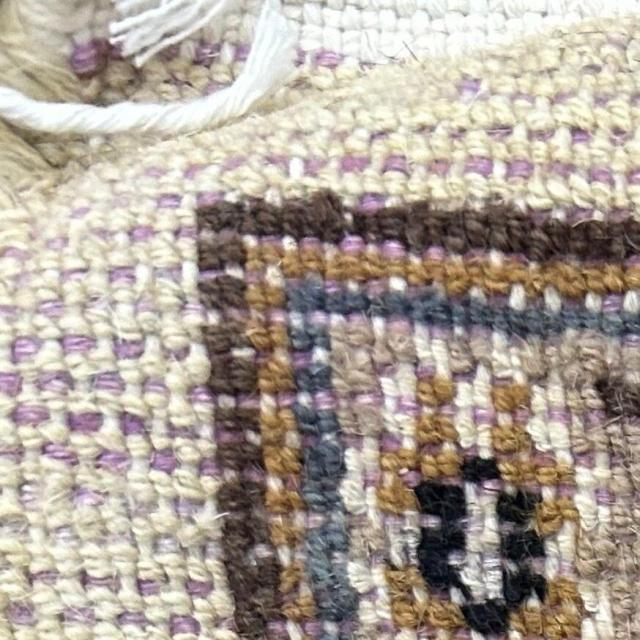Knot: (492, 370, 531, 422), (296, 348, 334, 394), (340, 127, 372, 179), (466, 602, 506, 640), (308, 438, 344, 480), (416, 358, 444, 410), (518, 336, 548, 384), (450, 335, 477, 384), (294, 104, 336, 134), (534, 451, 559, 501), (506, 142, 534, 186), (390, 533, 422, 571), (548, 420, 573, 468), (543, 608, 580, 639), (422, 602, 460, 632), (561, 268, 586, 313), (72, 46, 106, 79), (258, 360, 292, 393), (278, 562, 310, 596), (267, 308, 290, 352), (186, 562, 214, 598), (104, 62, 139, 90), (520, 598, 544, 638), (306, 310, 330, 350), (288, 282, 320, 312), (76, 508, 106, 540), (348, 560, 376, 594), (84, 562, 118, 590), (300, 238, 325, 276), (361, 174, 386, 212), (44, 214, 70, 250), (444, 256, 468, 295), (576, 494, 600, 533), (0, 90, 26, 126), (0, 538, 31, 568), (0, 159, 33, 187), (184, 352, 211, 386), (42, 444, 80, 468), (315, 400, 340, 436), (143, 380, 170, 413), (392, 595, 419, 628), (189, 386, 217, 417), (36, 372, 72, 396), (347, 313, 372, 347), (294, 395, 318, 430), (612, 467, 640, 497), (174, 473, 205, 500), (492, 330, 514, 368), (537, 505, 562, 538), (58, 172, 85, 202), (170, 614, 201, 640), (241, 462, 266, 494), (0, 487, 24, 520), (126, 20, 148, 56), (12, 336, 40, 364), (464, 152, 492, 180), (528, 112, 554, 142), (490, 98, 514, 130), (248, 329, 272, 361), (547, 221, 570, 254), (16, 406, 50, 428), (550, 126, 572, 160), (466, 14, 488, 48), (324, 282, 346, 316), (222, 246, 244, 280), (572, 174, 594, 208), (340, 174, 363, 206), (382, 154, 410, 180), (547, 178, 573, 206), (88, 300, 114, 328), (300, 25, 322, 58), (73, 486, 106, 508), (282, 242, 302, 278), (222, 156, 246, 186), (492, 140, 510, 180), (134, 81, 168, 102), (486, 252, 507, 286), (507, 220, 528, 254), (0, 573, 31, 596), (594, 19, 626, 41), (580, 334, 607, 360), (115, 336, 144, 360), (456, 416, 477, 449), (199, 460, 222, 490), (446, 27, 466, 61), (96, 454, 130, 474), (408, 167, 428, 201), (302, 620, 336, 640), (70, 411, 102, 432), (154, 534, 182, 558), (84, 270, 108, 298), (188, 65, 212, 93), (586, 222, 610, 250), (444, 225, 466, 255), (466, 220, 488, 250), (346, 284, 368, 314), (431, 124, 453, 154), (408, 133, 430, 163), (528, 418, 550, 448), (617, 542, 639, 572), (476, 408, 496, 441), (150, 512, 180, 534), (150, 472, 176, 497), (8, 602, 35, 626), (384, 178, 408, 205), (448, 166, 467, 200), (542, 284, 562, 316), (64, 336, 96, 356), (92, 374, 124, 394), (610, 192, 630, 224), (22, 176, 54, 196), (222, 17, 244, 46), (569, 223, 590, 253), (621, 371, 640, 404), (155, 263, 180, 288), (151, 450, 177, 474), (42, 422, 68, 446), (60, 582, 84, 608), (164, 334, 188, 360), (602, 41, 628, 65), (20, 482, 44, 508), (194, 42, 220, 66), (554, 74, 578, 100), (264, 154, 288, 180), (562, 363, 582, 394), (366, 244, 386, 275), (528, 233, 550, 261), (488, 12, 506, 46), (560, 330, 579, 362), (590, 165, 614, 190), (38, 341, 62, 366), (342, 30, 362, 60), (29, 287, 54, 311), (466, 175, 490, 200), (118, 610, 148, 630), (168, 395, 192, 420), (430, 150, 450, 180), (556, 104, 579, 130), (380, 218, 406, 241), (264, 266, 286, 293), (62, 300, 84, 327), (199, 242, 220, 270), (388, 276, 408, 305), (406, 222, 426, 251), (63, 280, 87, 304), (360, 30, 378, 62), (154, 242, 178, 266), (594, 539, 618, 563), (582, 360, 606, 384), (460, 76, 482, 102), (116, 304, 138, 330), (366, 279, 388, 305), (413, 34, 435, 60), (88, 136, 114, 158), (381, 428, 403, 454), (142, 156, 168, 178), (525, 281, 544, 311), (245, 259, 266, 286), (378, 32, 398, 60), (304, 152, 324, 180), (314, 50, 342, 70), (52, 526, 80, 546), (107, 542, 138, 560), (342, 234, 365, 258), (138, 311, 162, 334), (505, 17, 524, 46), (19, 427, 44, 449), (604, 268, 625, 294), (94, 601, 120, 622), (64, 608, 96, 625), (412, 8, 430, 38), (109, 268, 136, 288), (592, 142, 612, 169), (290, 313, 308, 343), (123, 413, 146, 436), (176, 444, 200, 466), (260, 242, 282, 266), (236, 394, 260, 416), (265, 619, 290, 640), (178, 240, 198, 266), (466, 259, 486, 285), (490, 226, 510, 252), (568, 206, 594, 226), (96, 334, 116, 360), (108, 248, 134, 268), (142, 336, 162, 362), (42, 314, 62, 340), (30, 556, 57, 575), (162, 590, 192, 607), (242, 208, 259, 238), (0, 374, 22, 397), (128, 460, 150, 483), (0, 418, 18, 446), (508, 283, 526, 311), (182, 304, 206, 325), (26, 195, 50, 216), (398, 32, 416, 60), (6, 304, 34, 322), (0, 519, 28, 537), (303, 3, 323, 28), (58, 559, 84, 578), (623, 290, 640, 319), (0, 228, 29, 245), (602, 292, 624, 314), (122, 394, 144, 416), (158, 294, 180, 316), (169, 58, 191, 80), (488, 286, 509, 309), (127, 436, 150, 457), (342, 6, 362, 30), (382, 240, 406, 260), (106, 516, 130, 536), (91, 162, 115, 182), (0, 446, 24, 466), (580, 67, 600, 91), (180, 260, 196, 290), (324, 242, 340, 272), (95, 621, 120, 640), (134, 264, 152, 290), (210, 63, 232, 84), (540, 48, 561, 70), (602, 313, 623, 335), (156, 212, 178, 233), (282, 2, 304, 23), (218, 227, 240, 248), (162, 314, 183, 336), (136, 295, 160, 314), (198, 192, 223, 210), (206, 300, 224, 325), (624, 428, 640, 456), (544, 14, 564, 36), (167, 372, 187, 394), (69, 199, 91, 219), (192, 174, 212, 196), (132, 518, 154, 538), (323, 28, 341, 52), (61, 266, 88, 282), (82, 541, 106, 559), (33, 588, 58, 605), (584, 271, 604, 292), (0, 464, 19, 486), (528, 196, 554, 212), (524, 13, 542, 36), (622, 350, 640, 373), (584, 292, 602, 315), (624, 260, 640, 285), (563, 48, 579, 73), (138, 178, 158, 198), (130, 246, 150, 266), (624, 142, 640, 167), (1, 259, 22, 278), (378, 10, 396, 32), (323, 8, 341, 30), (0, 188, 18, 210), (412, 112, 434, 130), (210, 334, 232, 352), (140, 580, 162, 598), (430, 177, 448, 199), (0, 394, 16, 418), (204, 161, 223, 181), (160, 180, 181, 198), (138, 197, 156, 218), (589, 34, 605, 57), (627, 40, 640, 68), (361, 10, 379, 30), (132, 227, 152, 245), (264, 188, 282, 208), (572, 128, 592, 146), (424, 245, 444, 263), (336, 108, 354, 128), (210, 628, 240, 640), (355, 108, 373, 128), (586, 248, 606, 266), (582, 618, 598, 640), (113, 289, 135, 305), (0, 618, 16, 640), (176, 211, 196, 228), (624, 232, 640, 253), (432, 16, 446, 40), (289, 158, 304, 180), (158, 196, 180, 211), (625, 214, 640, 236), (177, 226, 197, 242), (508, 252, 528, 268), (40, 254, 60, 270), (220, 43, 234, 65), (0, 278, 14, 300), (217, 394, 236, 410), (32, 576, 57, 588), (242, 236, 258, 254), (514, 93, 532, 109), (42, 270, 60, 286), (418, 626, 438, 640), (394, 629, 418, 640), (452, 627, 472, 640), (0, 590, 10, 616), (180, 196, 196, 212), (622, 334, 640, 348), (627, 170, 640, 189), (606, 250, 622, 264), (624, 250, 640, 263), (0, 334, 12, 348)
